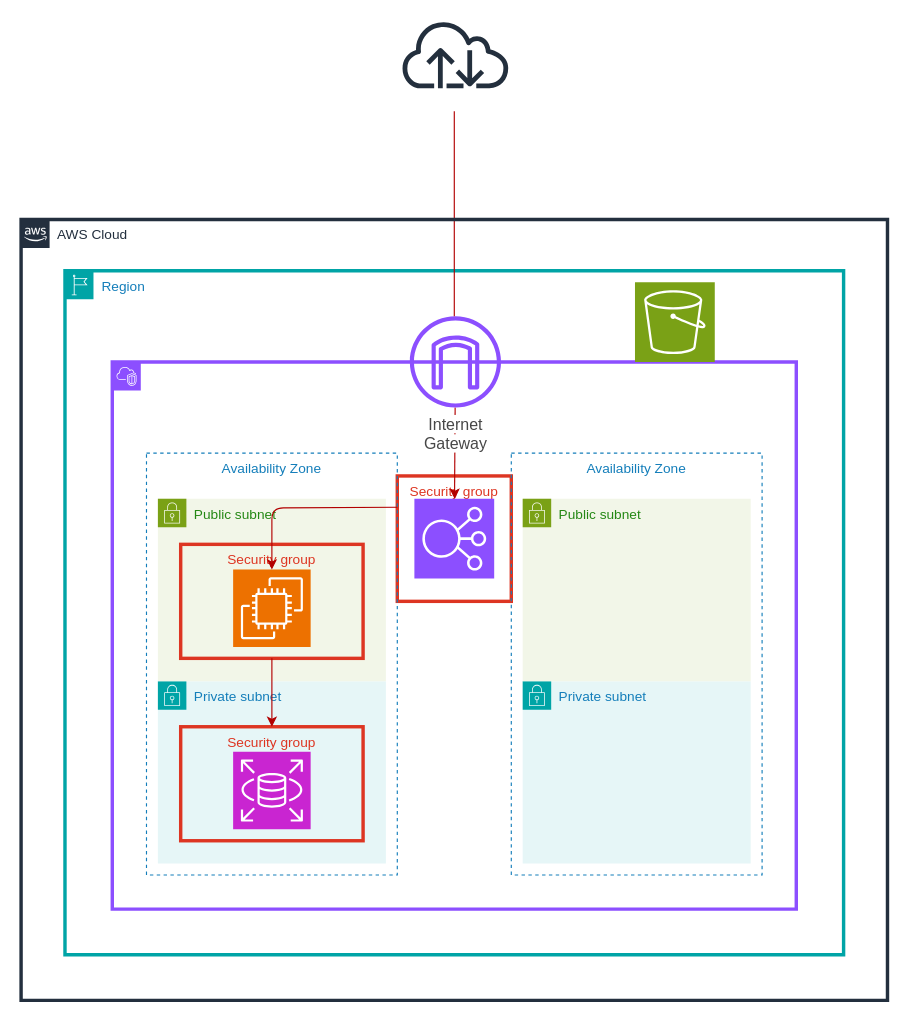
This 909x1021 diagram has some shape labels left out. Each missing label, with the box of its shape:
EC2: (232, 568, 311, 647)
Elastic Load Balancing: (413, 498, 494, 579)
Internet: (399, 19, 510, 88)
RDS: (232, 751, 311, 829)
S3: (634, 281, 715, 362)
VPC: (110, 360, 797, 910)
